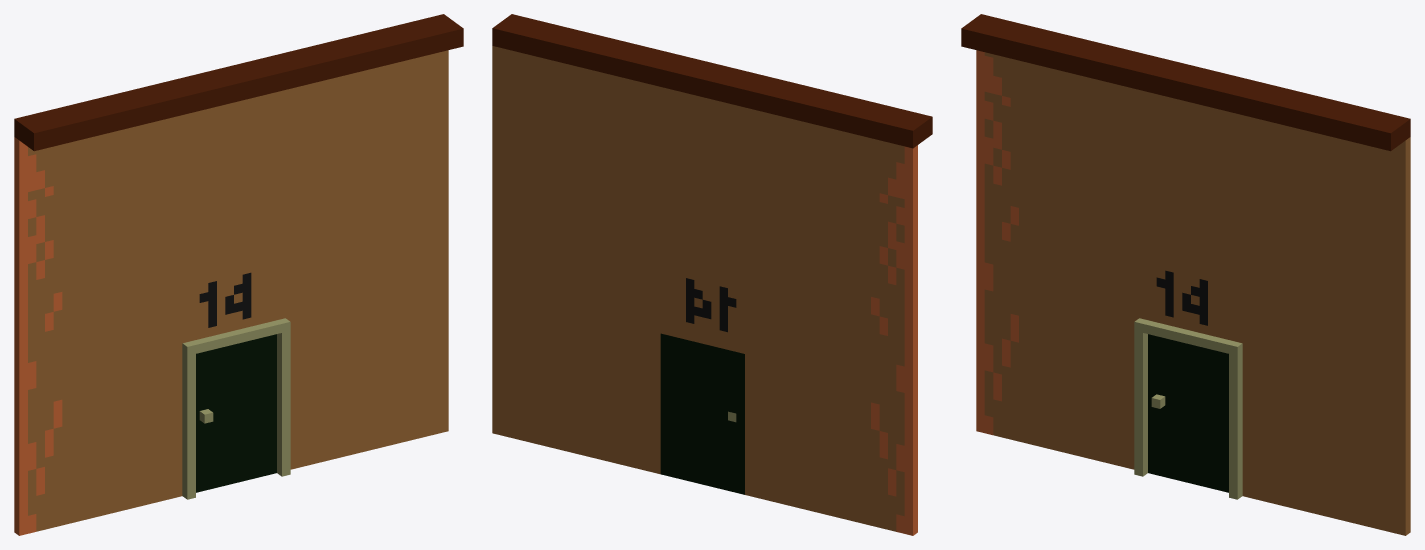
The model's file is Walls-1.obj.
The picture shows the model from 3 angles, left to right: view 1: azimuth 30°, elevation 25°; view 2: azimuth 150°, elevation 25°; view 3: azimuth 330°, elevation 25°; orthographic projection. The views are drawn at different scales.
Parts seen in each view (by area): view 1: Walls-1; view 2: Walls-1; view 3: Walls-1.
Boxes of the visible parts, x1=… form: Walls-1: x1=14, y1=14, x2=463, y2=535; Walls-1: x1=492, y1=14, x2=932, y2=535; Walls-1: x1=961, y1=14, x2=1410, y2=535.
Size of the model in its own units: 50 by 46 by 4.
